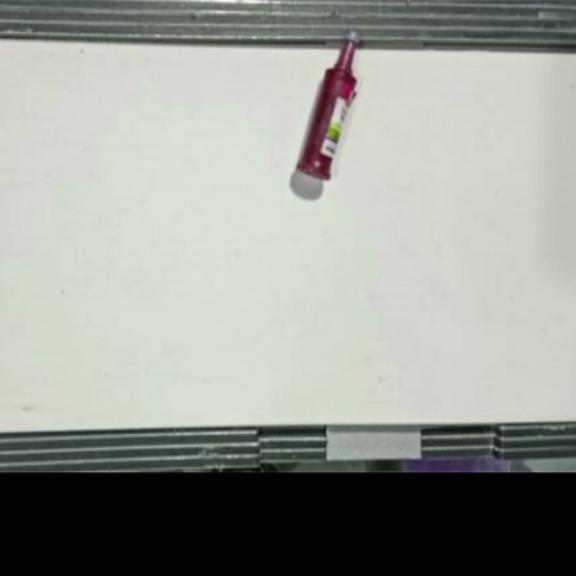Plastik: (295, 29, 358, 180)
